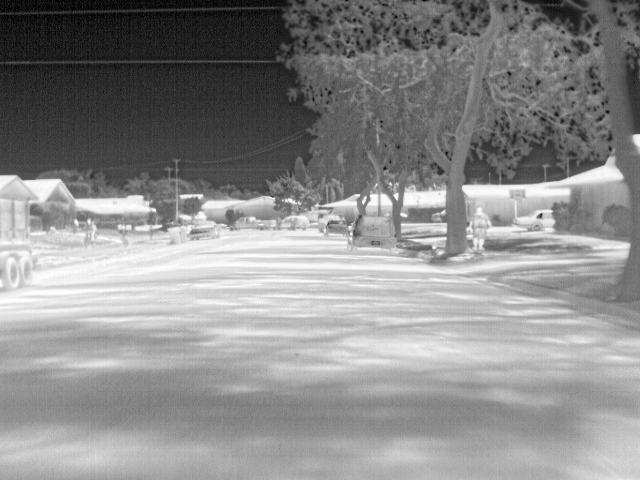car: (350, 213, 396, 252), (0, 238, 34, 290), (513, 208, 556, 231), (228, 214, 279, 232), (186, 219, 218, 240), (277, 214, 308, 232), (324, 220, 349, 238)
person: (466, 207, 492, 251), (83, 216, 97, 243)
